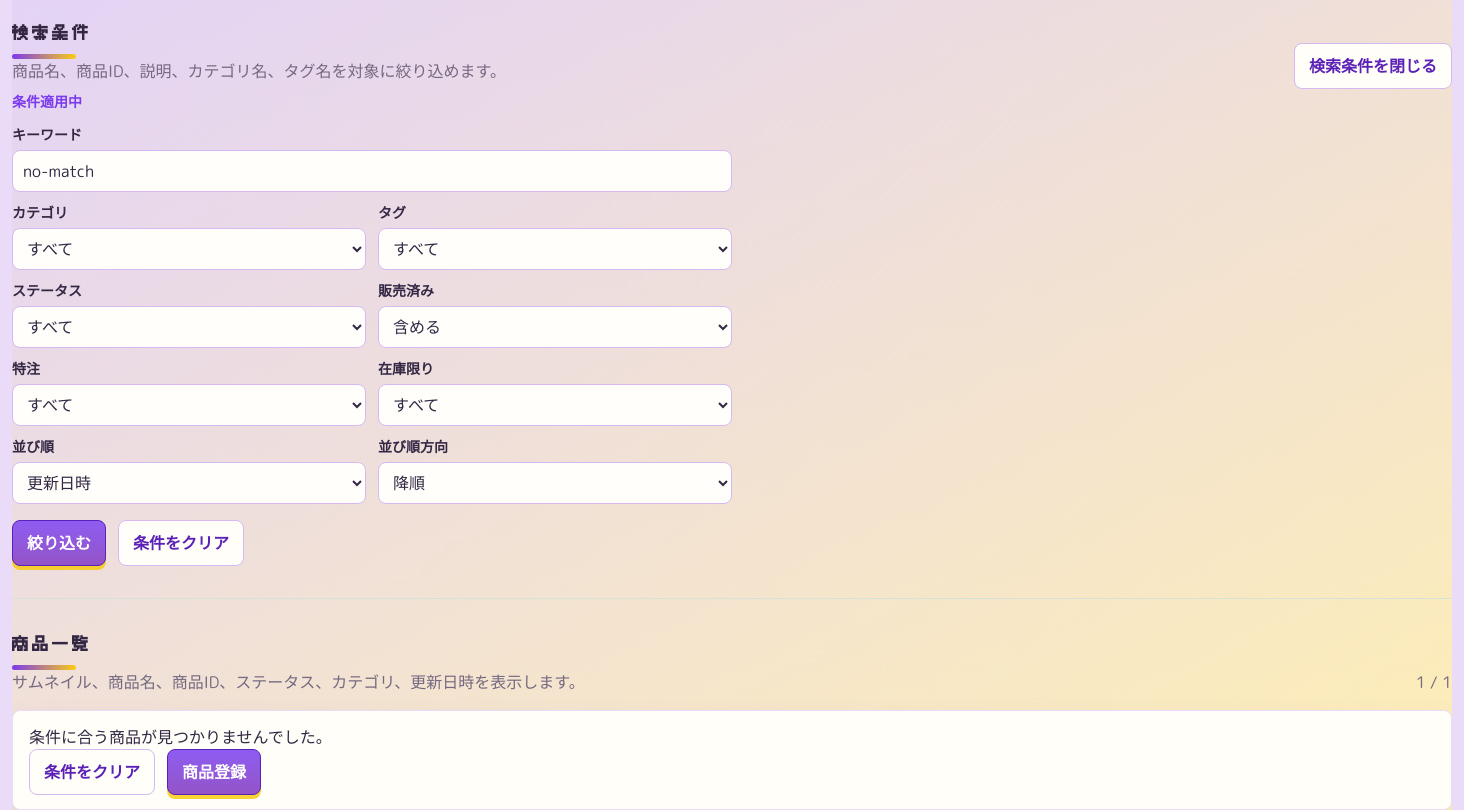
it: ProductListPage › shows an empty state and clears filters back to the default view
(page scrolled)
Expected: the text "条件に合う商品が見つかりませんでした。" is shown, top-left (29, 726), bottom-right (332, 748)
Click the button "条件をクリア" below "条件に合う商品が見つかりませんでした。" at [92, 772], box top-left (29, 749), bottom-right (155, 795)
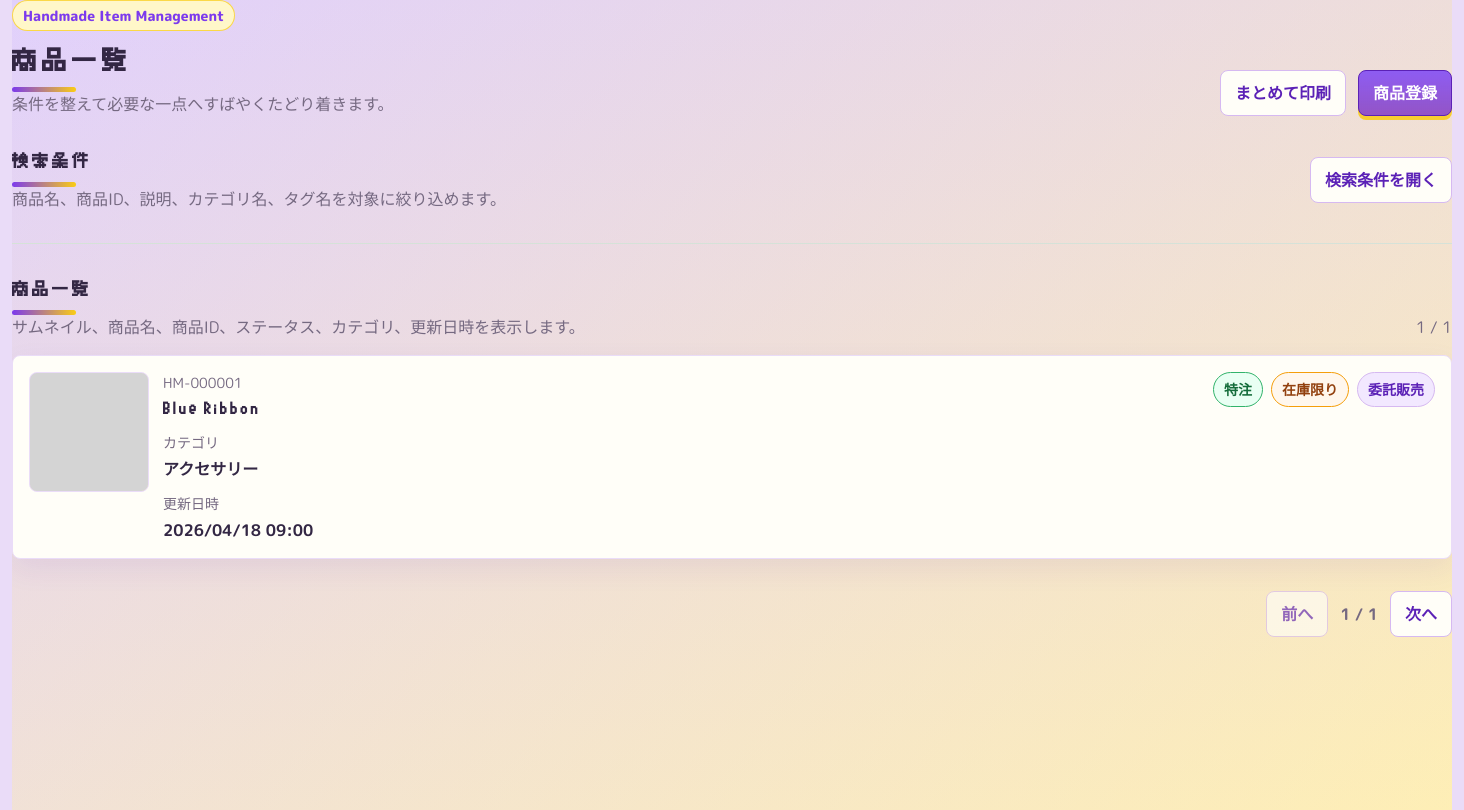
Expected: the list item is shown, top-left (12, 355), bottom-right (1452, 559)
